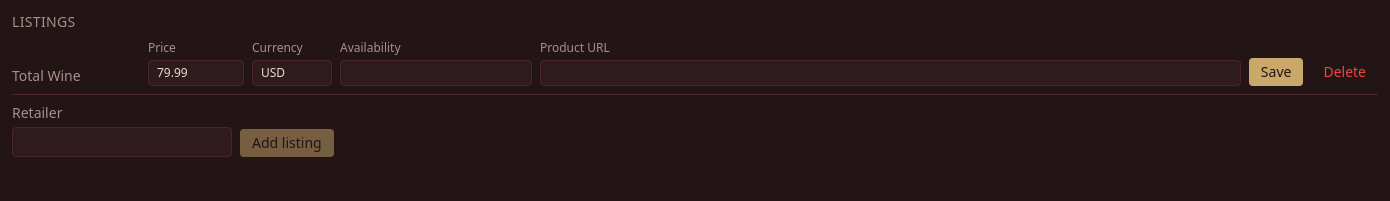
Test: ListingsSection › clears the admin key and shows a session-expired message on a 401
Step 1. Click the button "Delete" → (1345, 72), box [1311,58,1378,86]
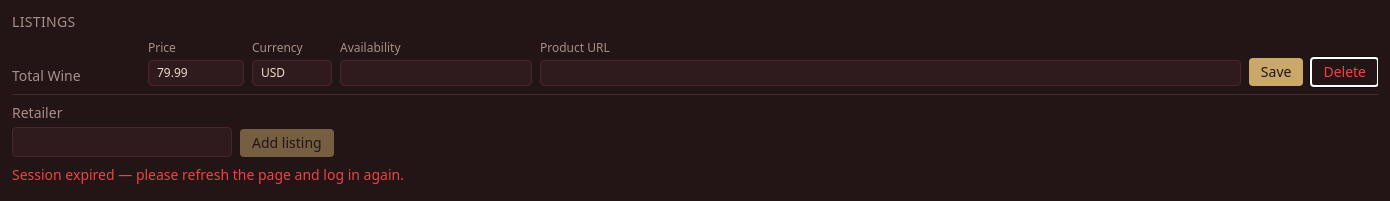
Expected: the text "Session expired — please refresh the page and log in again." is shown, [12,165,404,184]
